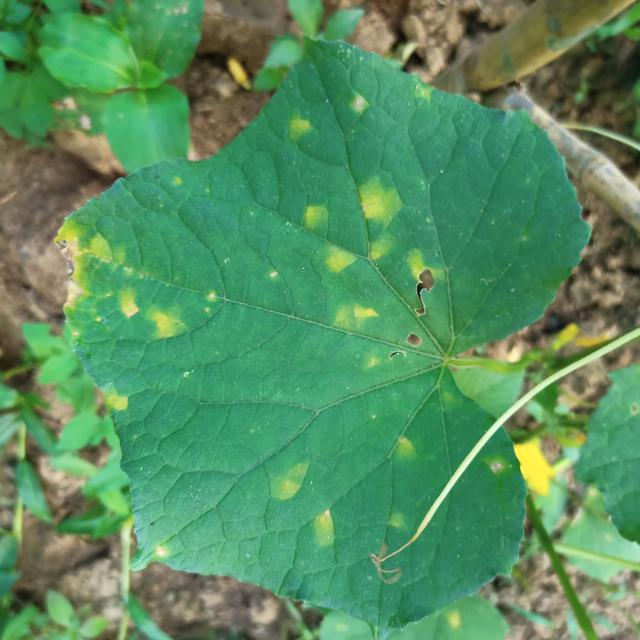disease_cucumber: (292, 171, 451, 377), (55, 212, 194, 348), (268, 447, 342, 555), (273, 102, 334, 149), (386, 423, 421, 469), (103, 378, 134, 418)
